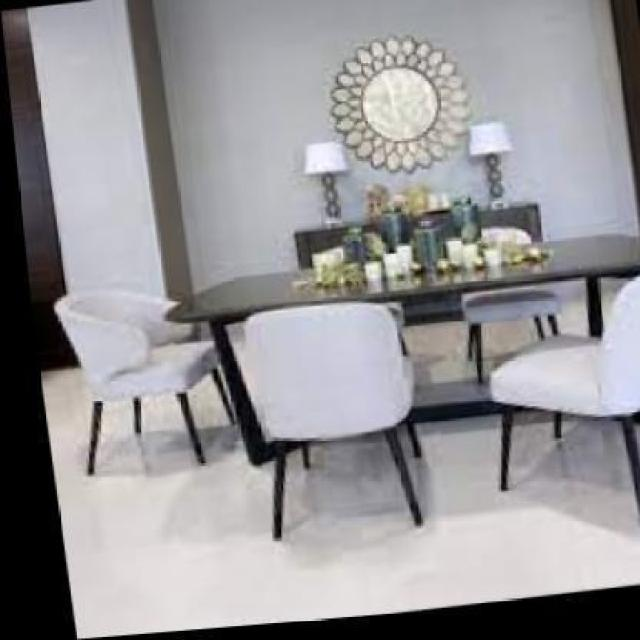tables: (164, 230, 638, 468)
